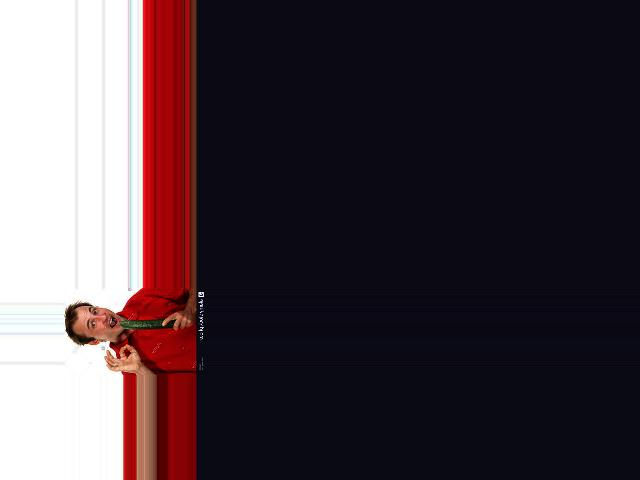cucumber: (119, 320, 174, 328)
